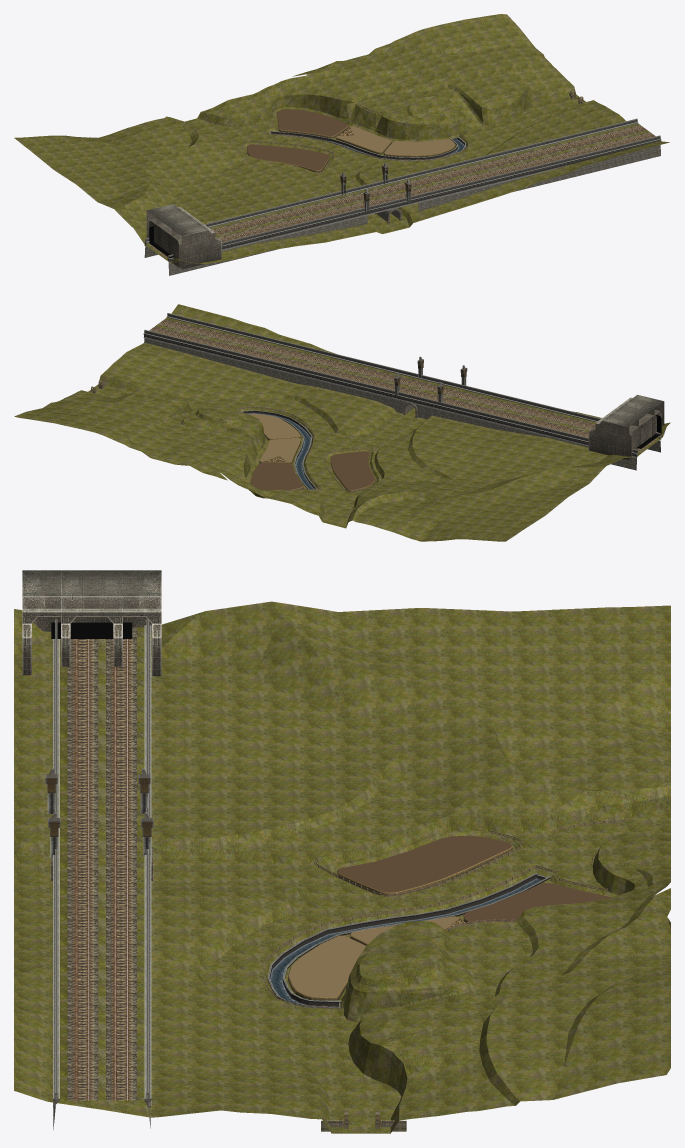
File: EastCeldicHighway2.obj
The picture shows the model from 3 angles, top to bottom: view 1: azimuth 30°, elevation 25°; view 2: azimuth 150°, elevation 25°; view 3: azimuth 270°, elevation 25°; orthographic projection. The views are drawn at different scales.
Parts seen in each view (by area): view 1: Object.040, Object.036, Object.029, Object.042, Object.028, Object.032, Object.043, Object.039, Object.044; view 2: Object.040, Object.029, Object.036, Object.042, Object.028, Object.032, Object.043, Object.039, Object.044, Object.031; view 3: Object.040, Object.036, Object.042, Object.043, Object.028, Object.029, Object.039, Object.044, Object.031, Object.038, Object.035.
Boxes of the visible parts, bbox=[...] form: Object.040: bbox=[14, 14, 669, 264]; Object.036: bbox=[148, 125, 655, 257]; Object.029: bbox=[144, 118, 661, 263]; Object.042: bbox=[247, 109, 455, 172]; Object.028: bbox=[146, 204, 221, 269]; Object.032: bbox=[144, 145, 660, 275]; Object.043: bbox=[146, 123, 649, 258]; Object.039: bbox=[269, 131, 466, 160]; Object.044: bbox=[209, 102, 468, 175]; Object.040: bbox=[14, 304, 670, 541]; Object.029: bbox=[143, 313, 661, 458]; Object.036: bbox=[149, 319, 656, 451]; Object.042: bbox=[249, 414, 374, 491]; Object.028: bbox=[588, 394, 664, 460]; Object.032: bbox=[144, 338, 660, 470]; Object.043: bbox=[155, 317, 658, 453]; Object.039: bbox=[242, 410, 317, 490]; Object.044: bbox=[237, 406, 379, 516]; Object.031: bbox=[247, 413, 314, 489]; Object.040: bbox=[14, 601, 670, 1133]; Object.036: bbox=[67, 627, 136, 1100]; Object.042: bbox=[288, 835, 612, 1000]; Object.043: bbox=[59, 627, 144, 1100]; Object.028: bbox=[22, 570, 161, 676]; Object.029: bbox=[53, 619, 151, 1107]; Object.039: bbox=[267, 872, 550, 1008]; Object.044: bbox=[263, 819, 625, 1009]; Object.031: bbox=[270, 878, 541, 1007]; Object.038: bbox=[51, 622, 132, 638]; Object.035: bbox=[45, 768, 150, 813].
Size of the model in its own units: 292 by 27.6 by 170.
12 materials, 12 textured.
